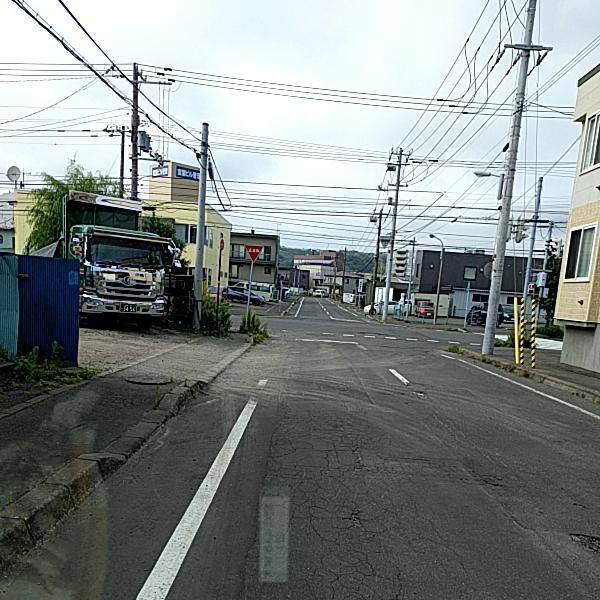D20: (264, 406, 449, 599)
D40: (563, 525, 599, 555)
